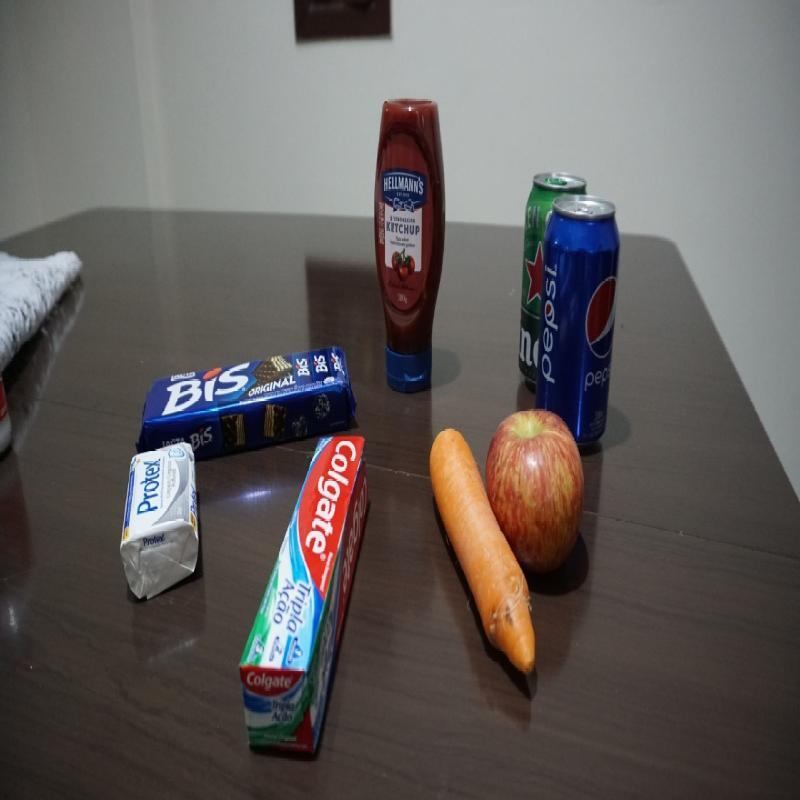Apple: (497, 407, 584, 574)
Beer can: (517, 170, 544, 382)
Carrot: (428, 426, 488, 646)
Ketchup: (374, 96, 435, 386)
Soap: (121, 446, 200, 594)
Soda can: (545, 196, 618, 401)
Toothpaste: (239, 436, 372, 757)
